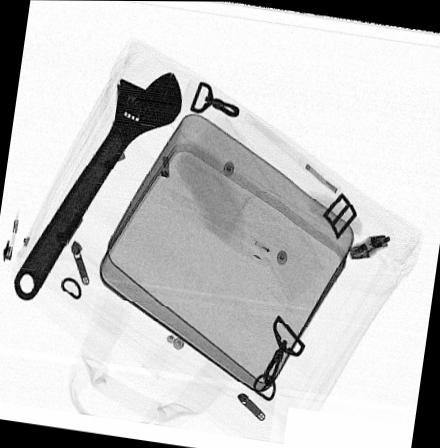Wrench: (12, 72, 184, 301)
